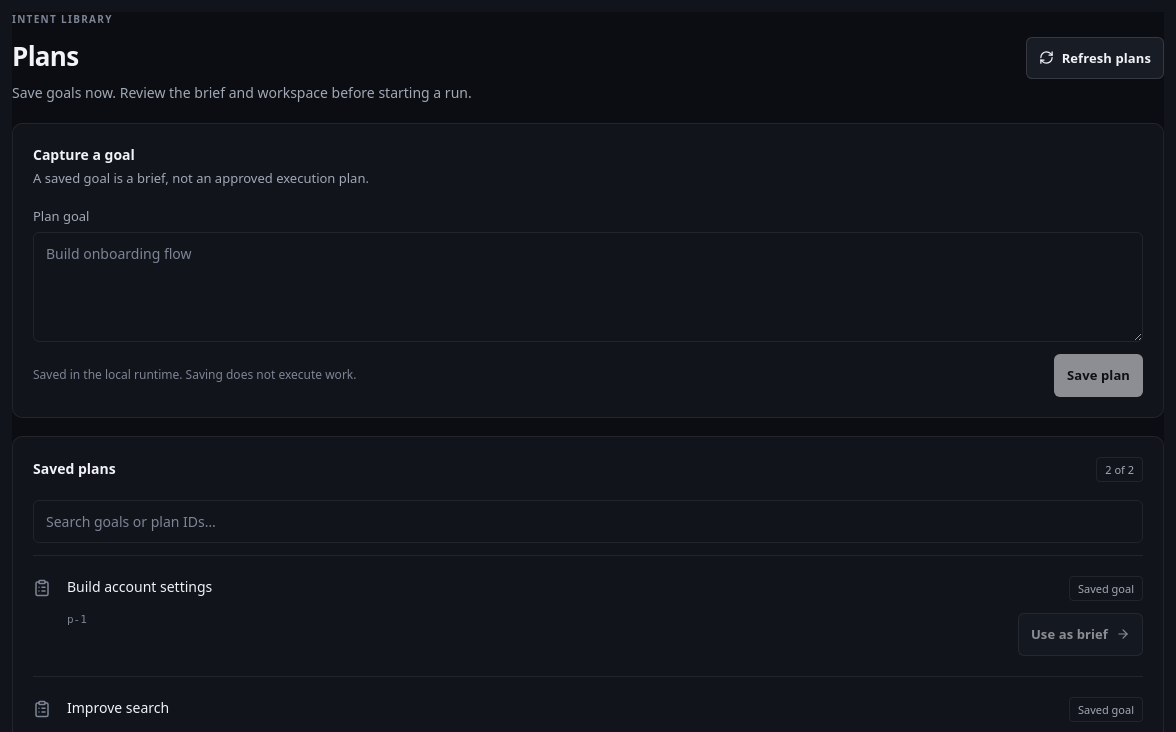
Test case: plan library › disables review while a run is active but leaves planning available
This screenshot has width=1176, height=732.
expect the button with aria-label "Review plan p-1" is disabled: met, box [1018,613,1143,656]
Type "future work" into the text box labelled "Plan goal" at [588, 288], box [33,232,1143,342]
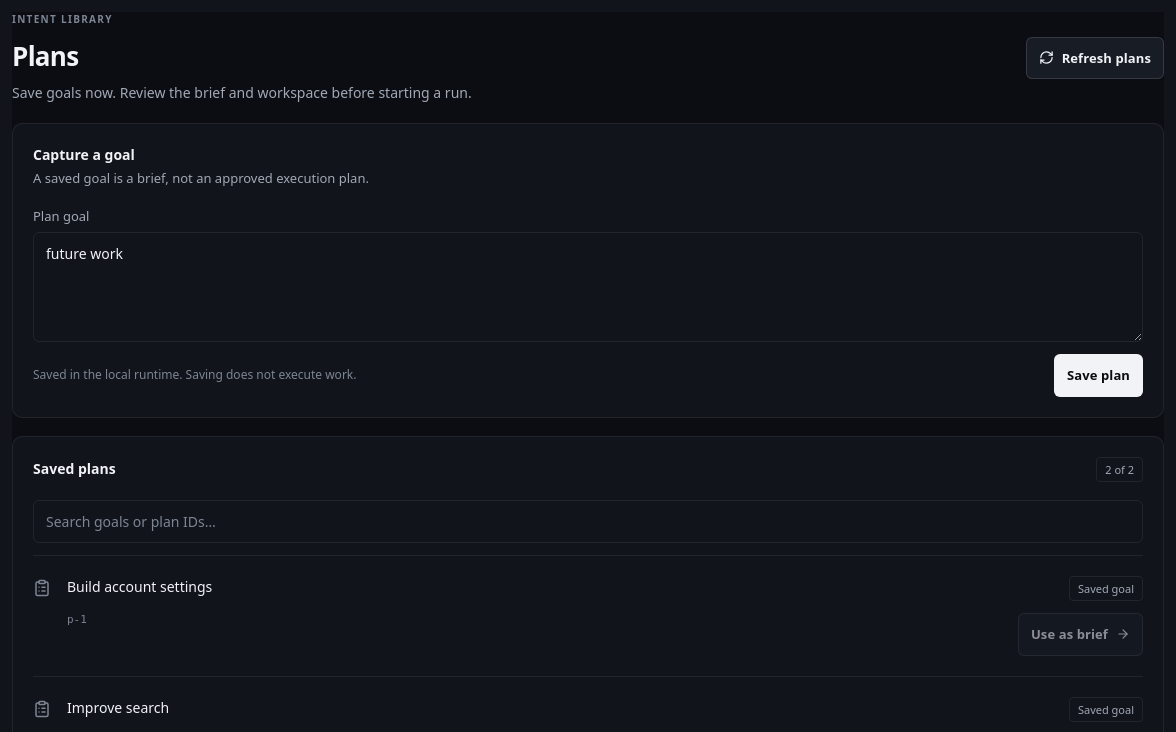
expect the button "Save plan" is enabled: met, box [1054,354,1143,397]
